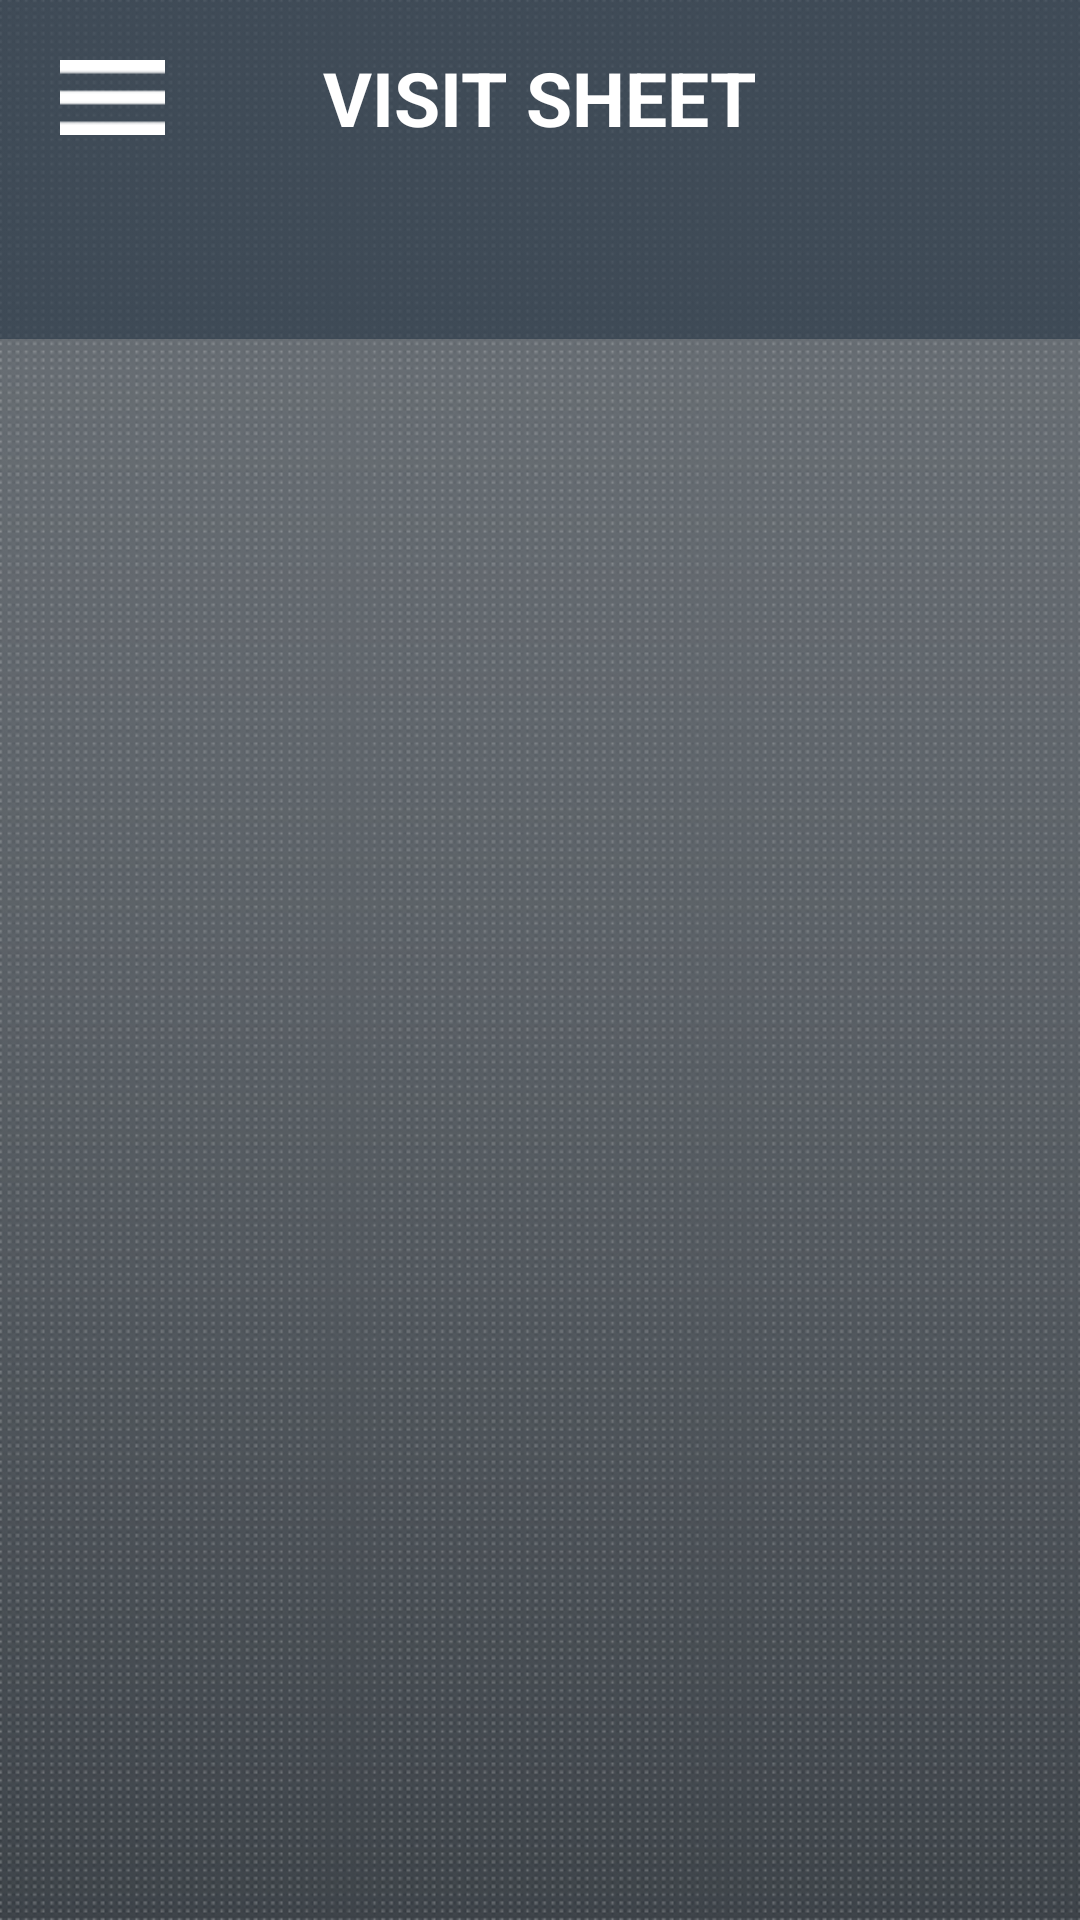

Icon click points for this 1080×1920 phone screenshot, format [x,y]:
three lines menu: [112,97]
